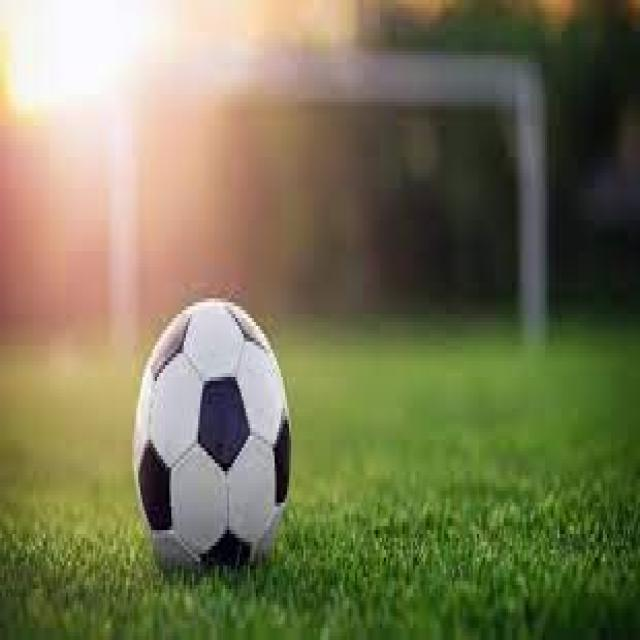ball: (133, 299, 294, 578)
